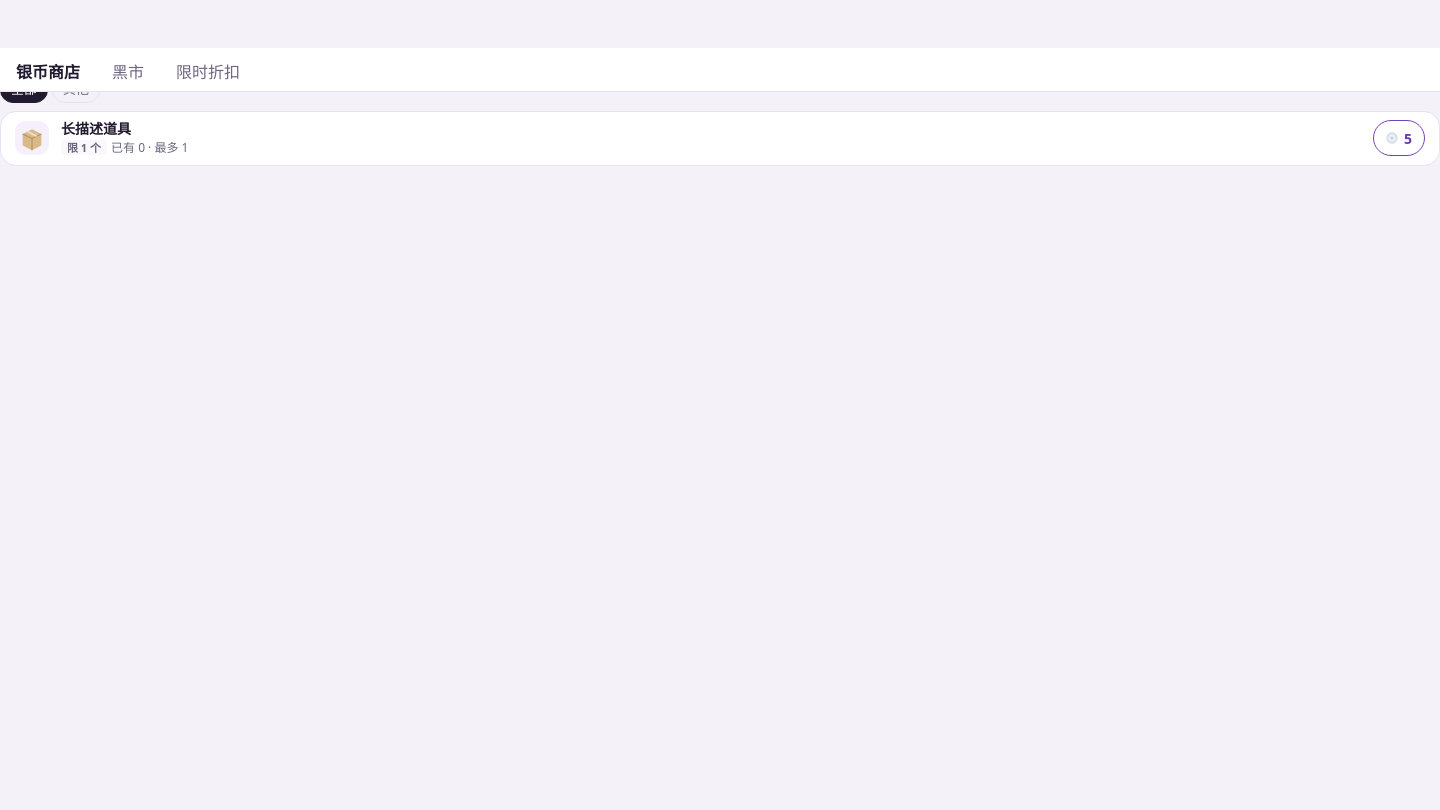
Test: ShopView（问题记录：商店不显示最大可购买数量） › 价格按钮是真按钮，键盘能打开面板看描述；读屏念名字和价格（PR27 遗留）
The width and height of the screenshot is (1440, 810).
What coordinates should you click on to do the following:
click the button with test id "buy-99"
I would click on:
 (1399, 138)
Its box is [1373,120,1425,156].
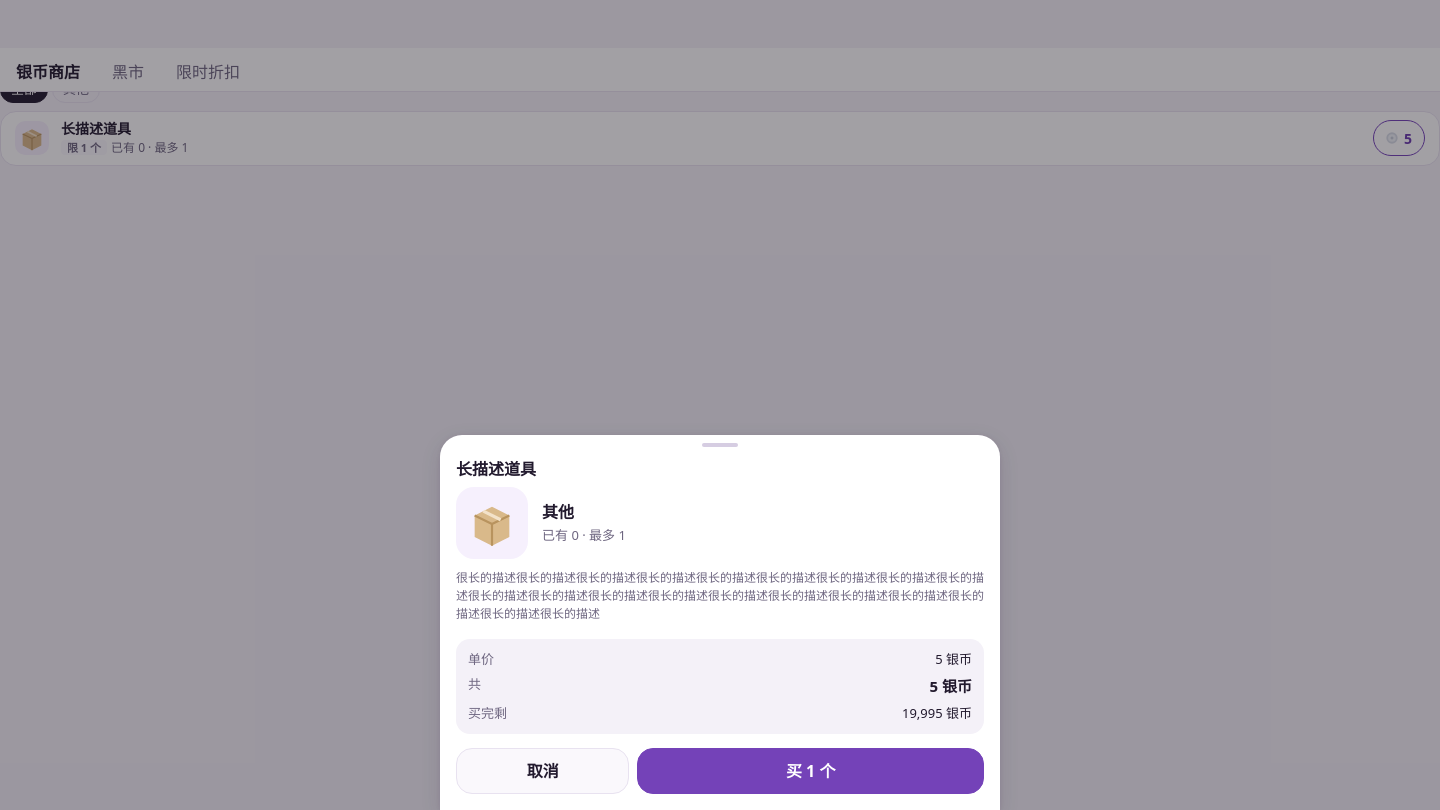
Check: the text with test id "sheet-desc" shows "很长的描述", box [456,568,984,622]
